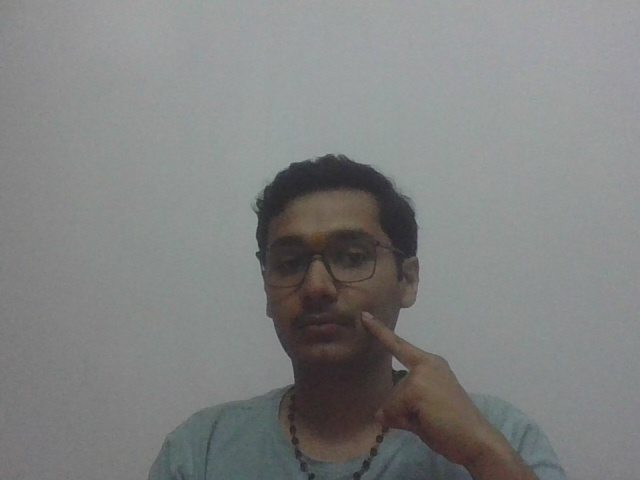I: (358, 309, 501, 461)
